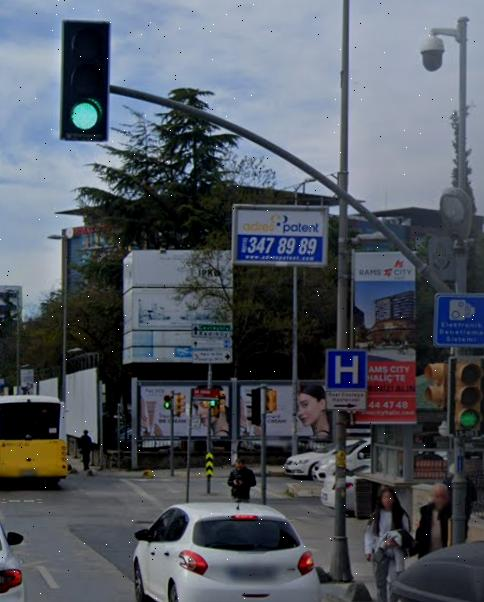greenlight: (58, 16, 113, 143), (452, 352, 482, 430), (165, 393, 172, 410)
